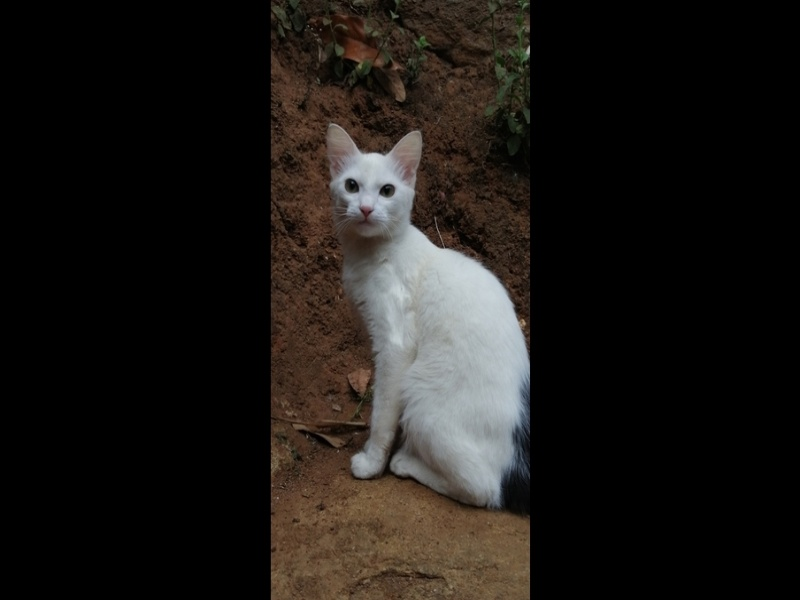cat: (316, 122, 530, 513)
